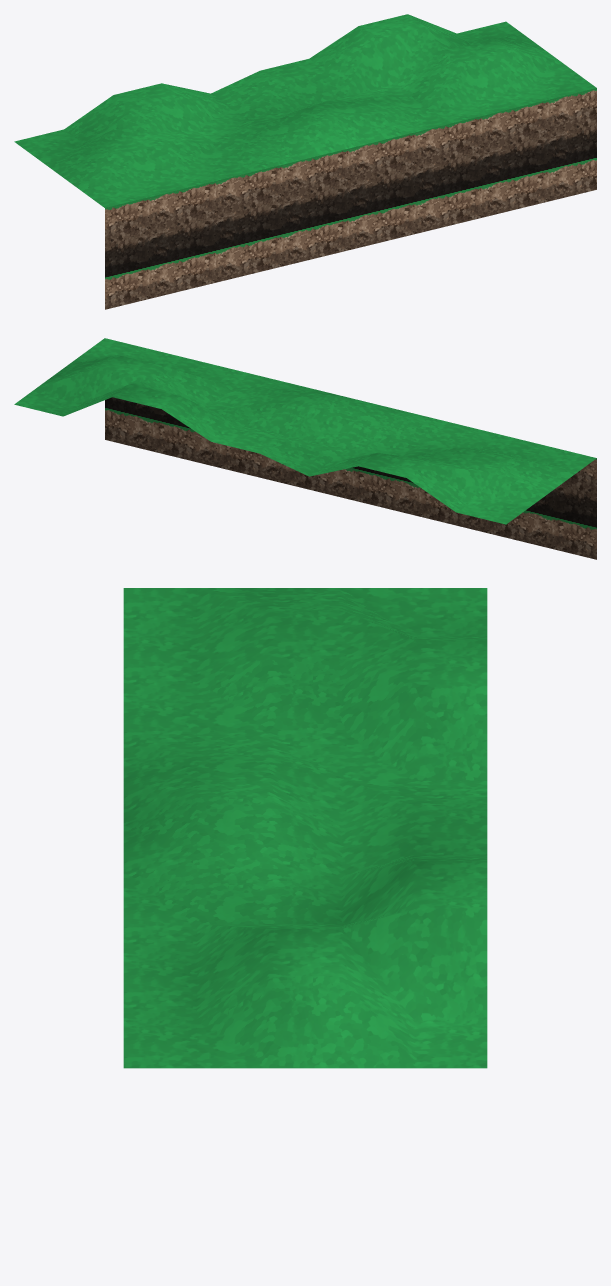
The model's file is terrenoBig_02.FBX.
3 renders of one model, top to bottom at view 1: azimuth 30°, elevation 25°; view 2: azimuth 150°, elevation 25°; view 3: azimuth 270°, elevation 25°, orthographic. The views are drawn at different scales.
Parts seen in each view (by area): view 1: cesped001; view 2: cesped001; view 3: cesped001.
Part boxes in pixels (bbox=[...]): cesped001: bbox=[14, 14, 596, 309]; cesped001: bbox=[14, 338, 596, 559]; cesped001: bbox=[123, 588, 487, 1068].
Bounding box in the file's own units: 36.98 × 11.82 × 9.56.
Materials: 2 (2 with a texture image).
